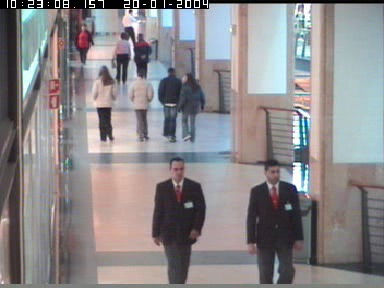person: (246, 159, 304, 284), (153, 158, 206, 284), (91, 65, 116, 141), (179, 73, 205, 143), (158, 67, 182, 142), (130, 71, 154, 142), (111, 33, 132, 85), (134, 32, 152, 83), (74, 22, 94, 66), (121, 9, 139, 44)
